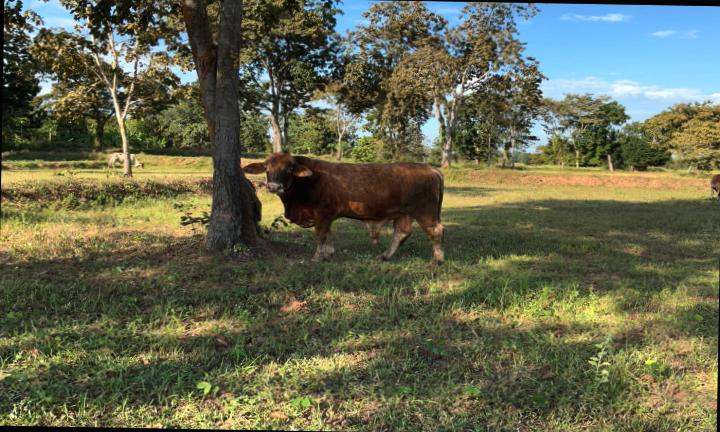Charolais: (243, 152, 443, 263)
